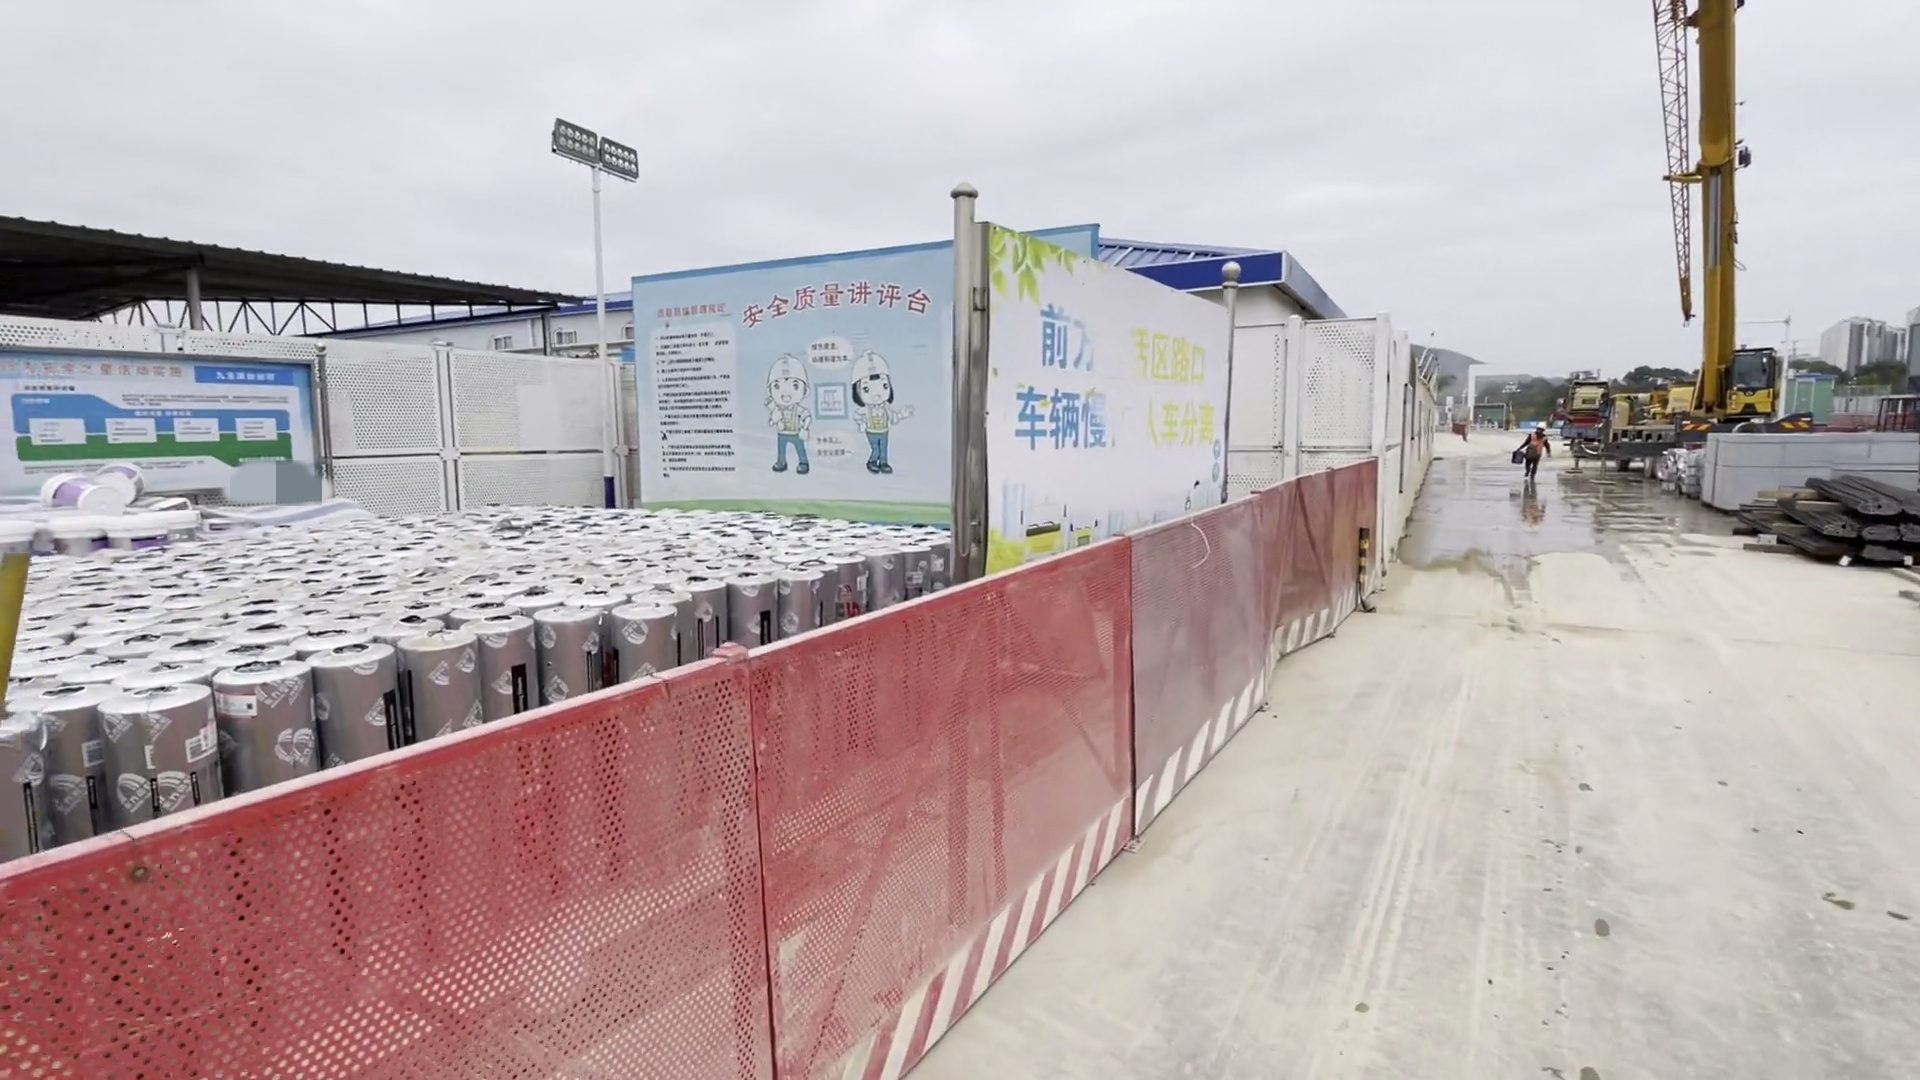fence: (10, 457, 1373, 1079)
helmet: (1533, 419, 1549, 432)
person: (1525, 418, 1554, 496)
rebar: (1748, 472, 1916, 580)
vest: (1525, 429, 1550, 462)
